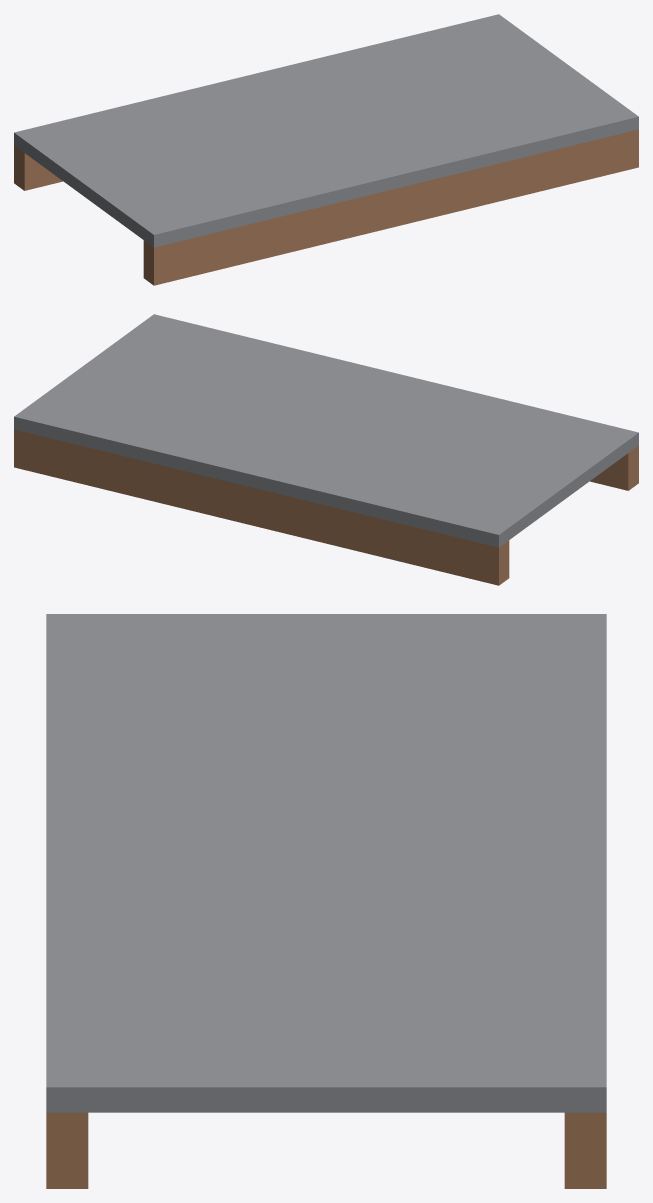
Rendered from catwalk_4m.glb.
3 renders of one model, top to bottom at view 1: azimuth 30°, elevation 25°; view 2: azimuth 150°, elevation 25°; view 3: azimuth 270°, elevation 25°, orthographic. The views are drawn at different scales.
Visible parts, largest first — view 1: catwalk_4m; view 2: catwalk_4m; view 3: catwalk_4m.
Boxes of the visible parts, bbox=[...] form: catwalk_4m: bbox=[14, 14, 638, 285]; catwalk_4m: bbox=[14, 314, 638, 585]; catwalk_4m: bbox=[46, 614, 606, 1188].
Size of what is drawn, in the model's own units: 4 by 0.4 by 2.
